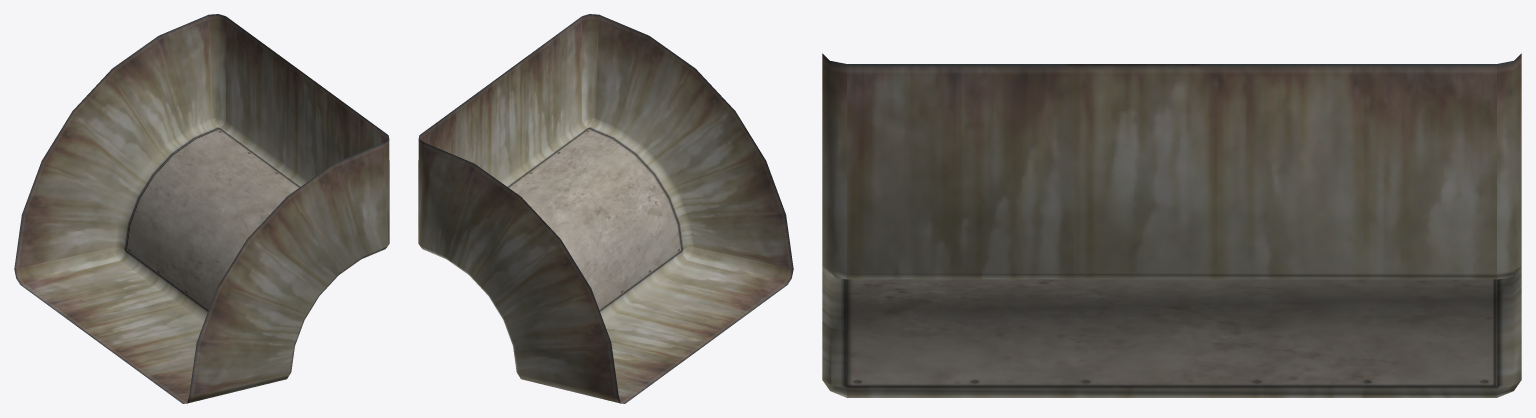
The model's file is lab_ceiling_box_curved_welder.dae.
The picture shows the model from 3 angles, left to right: view 1: azimuth 30°, elevation 25°; view 2: azimuth 150°, elevation 25°; view 3: azimuth 270°, elevation 25°; orthographic projection. The views are drawn at different scales.
Visible parts, largest first — view 1: lab_ceiling_box_curved_welder; view 2: lab_ceiling_box_curved_welder; view 3: lab_ceiling_box_curved_welder.
Boxes of the visible parts, bbox=[...] form: lab_ceiling_box_curved_welder: bbox=[14, 14, 389, 403]; lab_ceiling_box_curved_welder: bbox=[418, 14, 793, 403]; lab_ceiling_box_curved_welder: bbox=[822, 53, 1521, 397].
Size of the model in its own units: 1.46 by 1.48 by 2.15.
